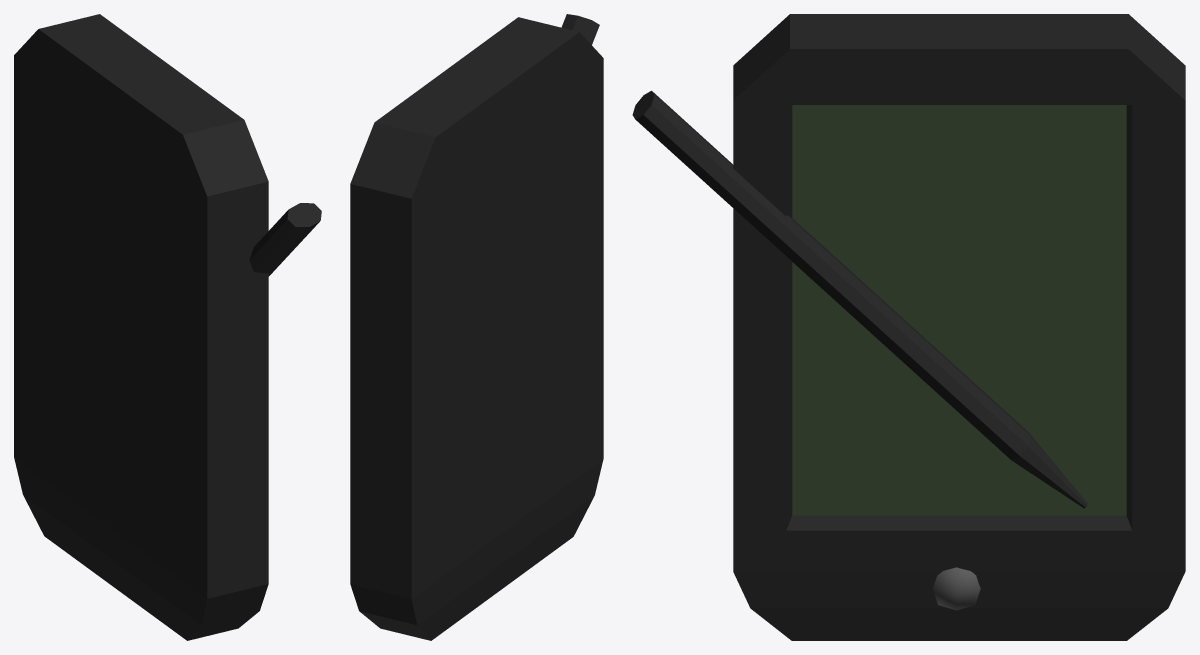
Rendered from PocketComputer.glb.
The picture shows the model from 3 angles, left to right: view 1: azimuth 30°, elevation 25°; view 2: azimuth 150°, elevation 25°; view 3: azimuth 270°, elevation 25°; orthographic projection. The views are drawn at different scales.
Parts seen in each view (by area): view 1: PocketComputer, Stylus; view 2: PocketComputer, Stylus; view 3: PocketComputer, Stylus, Button.
Part boxes in pixels (bbox=[...]): PocketComputer: bbox=[14, 14, 268, 640]; Stylus: bbox=[249, 203, 321, 276]; PocketComputer: bbox=[350, 17, 603, 640]; Stylus: bbox=[561, 14, 599, 44]; PocketComputer: bbox=[733, 14, 1185, 640]; Stylus: bbox=[632, 90, 1087, 508]; Button: bbox=[932, 567, 980, 610].
Bounding box in the file's own units: 0.1877 × 1.19 × 1.
